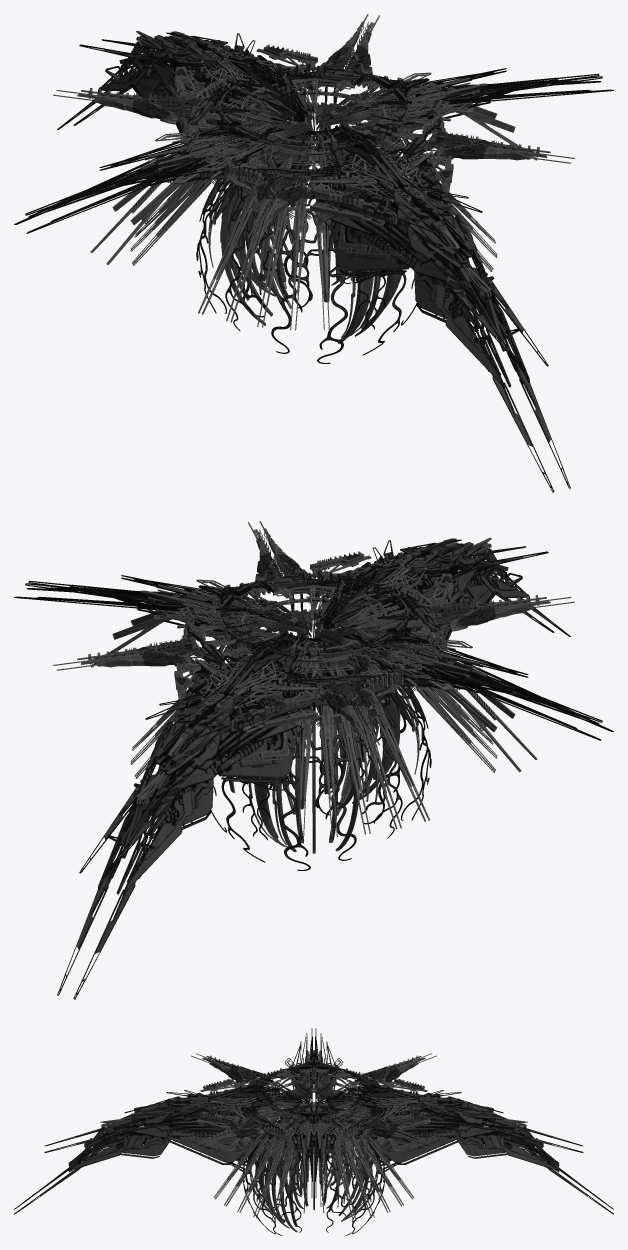
File: world_destroyer.glb
3 views of the same model, one above another, from view 1: azimuth 30°, elevation 25°; view 2: azimuth 150°, elevation 25°; view 3: azimuth 270°, elevation 25° (orthographic). The views are drawn at different scales.
Parts seen in each view (by area): view 1: Center, Wings, Engine, Spiral; view 2: Center, Wings, Engine, Spiral; view 3: Wings, Center, Engine, Spiral.
Boxes of the visible parts, box(x1,y1,x2,y2) form: Center: box(53, 14, 574, 341); Wings: box(14, 31, 613, 492); Engine: box(219, 67, 412, 343); Spiral: box(196, 130, 416, 363); Center: box(53, 521, 574, 847); Wings: box(14, 538, 613, 999); Engine: box(215, 574, 408, 853); Spiral: box(211, 637, 431, 870); Wings: box(14, 1028, 613, 1214); Center: box(100, 1050, 527, 1221); Engine: box(257, 1065, 370, 1232); Spiral: box(243, 1105, 384, 1235).
Bounding box in the file's own units: 12.35 × 4.67 × 18.08.
4 materials, 4 textured.
